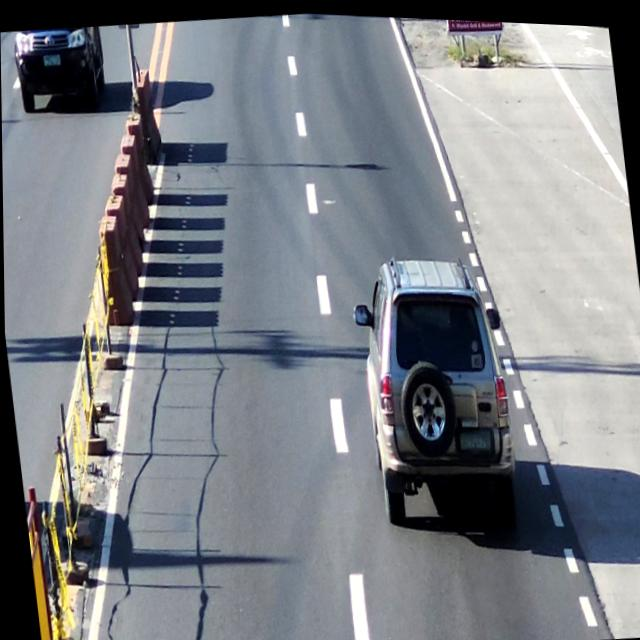Car: (350, 245, 527, 534)
License-Plate: (449, 419, 494, 453)
